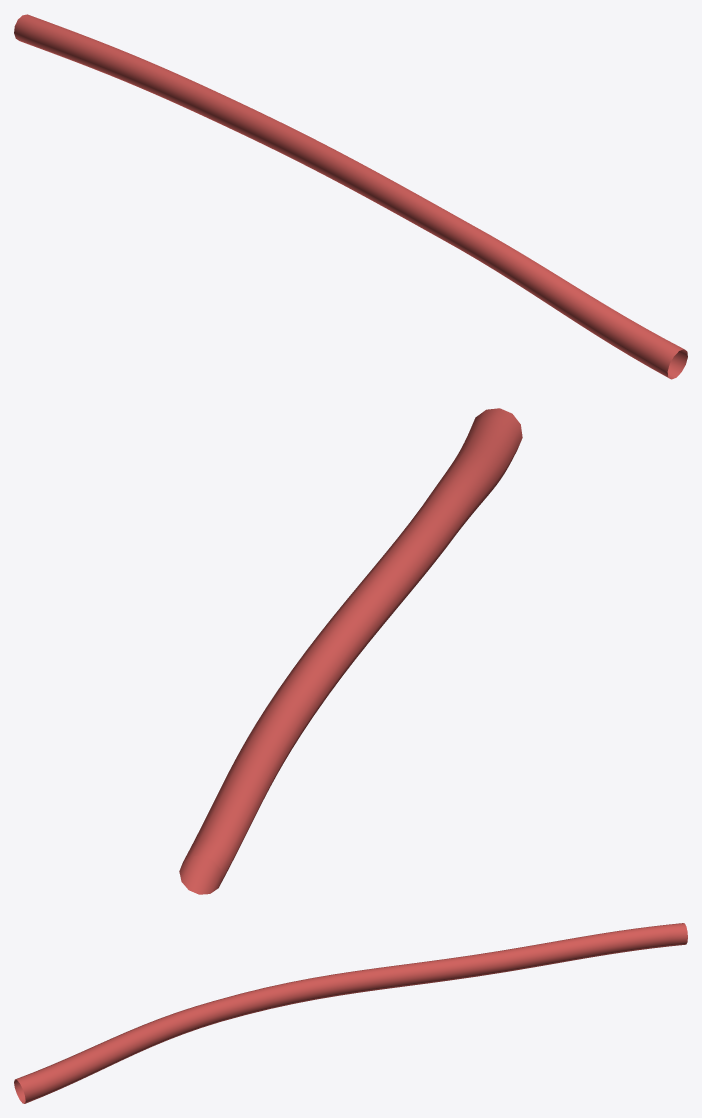
The picture shows the model from 3 angles, top to bottom: view 1: azimuth 30°, elevation 25°; view 2: azimuth 150°, elevation 25°; view 3: azimuth 270°, elevation 25°; orthographic projection. The views are drawn at different scales.
Visible parts, largest first — view 1: 右侧中副动脉; view 2: 右侧中副动脉; view 3: 右侧中副动脉.
Part boxes in pixels (x1=…): 右侧中副动脉: x1=14, y1=14, x2=687, y2=379; 右侧中副动脉: x1=179, y1=408, x2=522, y2=894; 右侧中副动脉: x1=14, y1=923, x2=687, y2=1103.
Bounding box in the file's own units: 0.0392 × 0.0166 × 0.112.
